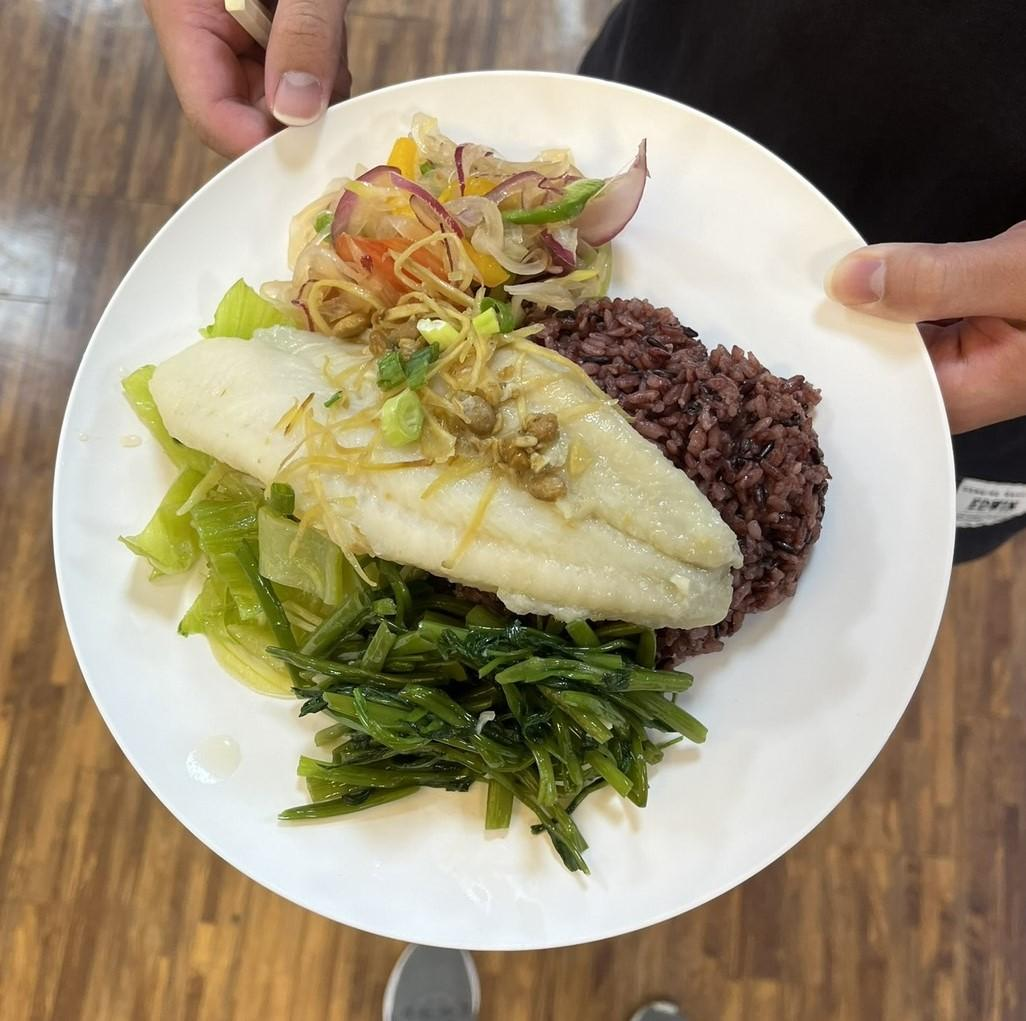big fried chicken leg: (41, 70, 984, 960)
braised fish: (414, 286, 820, 644)
braised fish fillet: (310, 593, 682, 848), (131, 288, 372, 668), (273, 133, 650, 323)
braised pork ribs: (161, 303, 738, 626)
